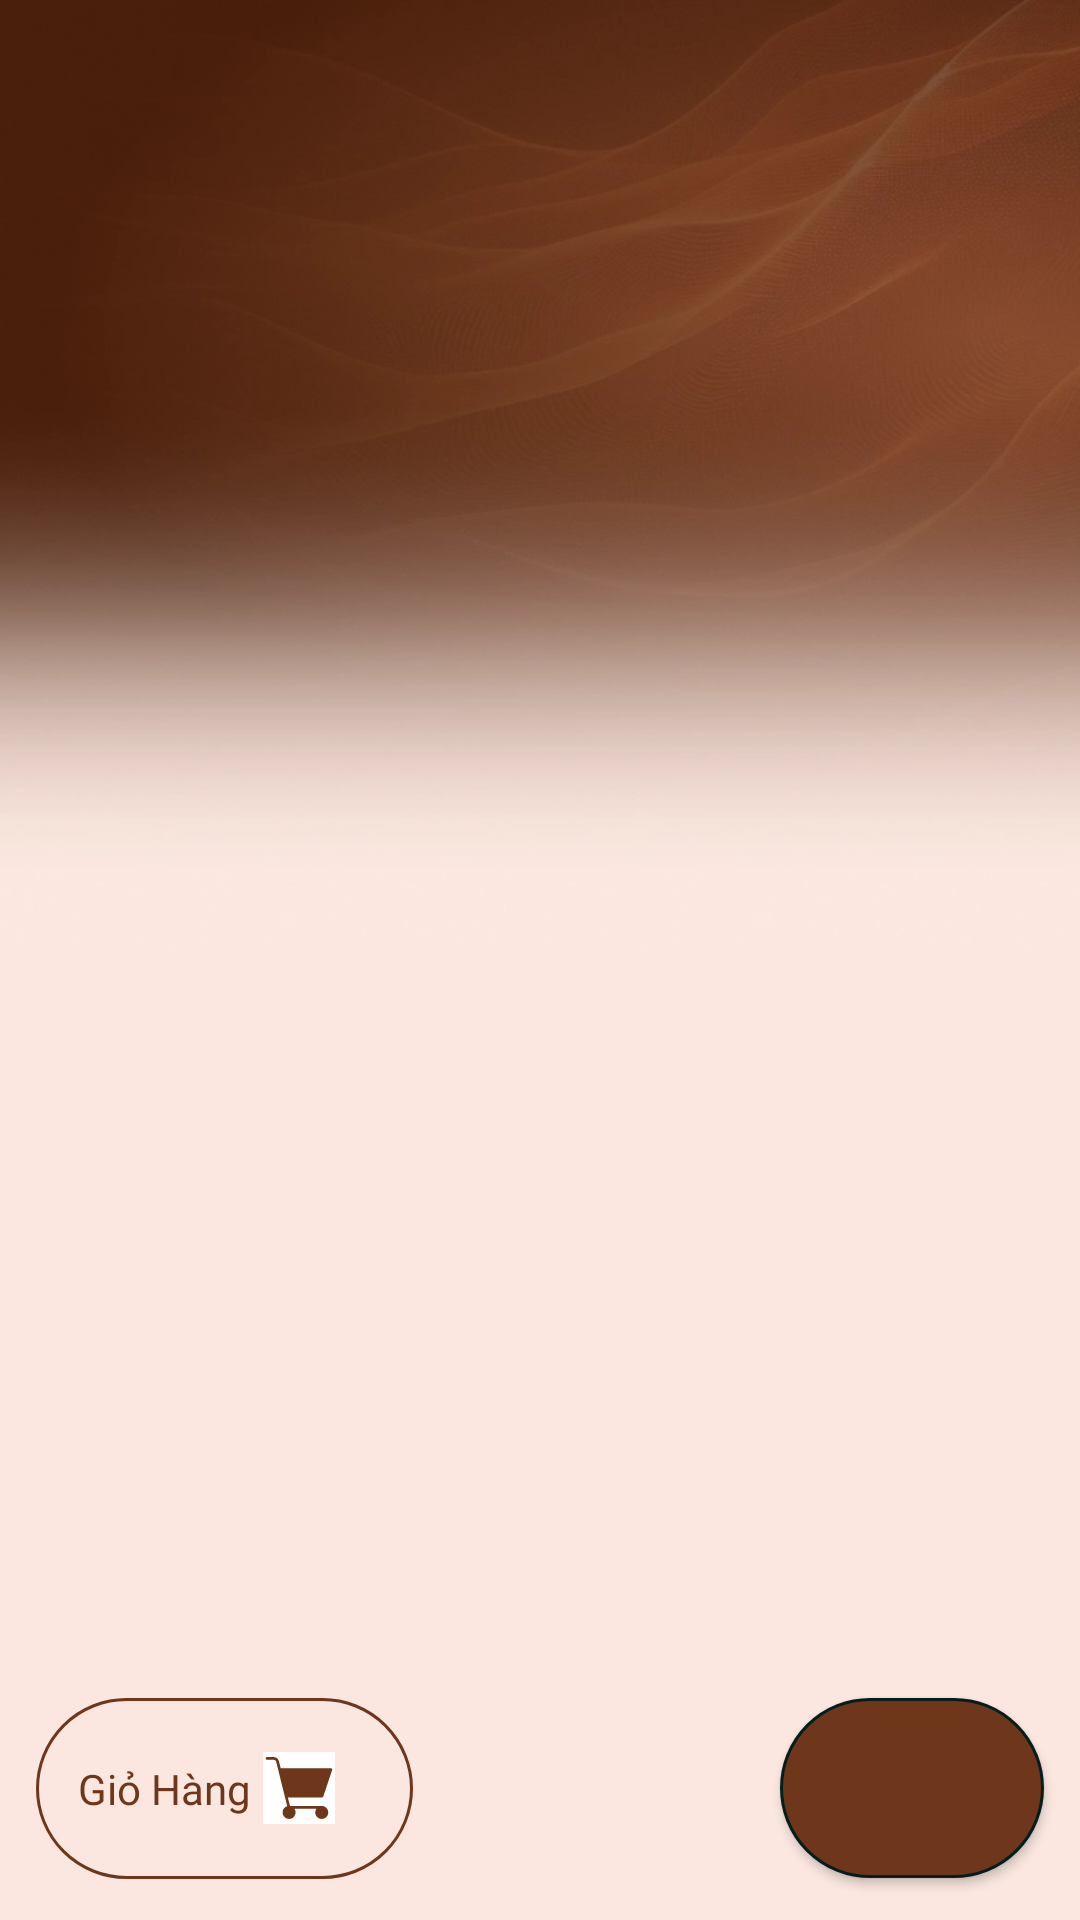

Icons on this 1080x1920 Android screen, each with its box as (x1, y1, x2, y2):
cart: (263, 1752, 335, 1824)
